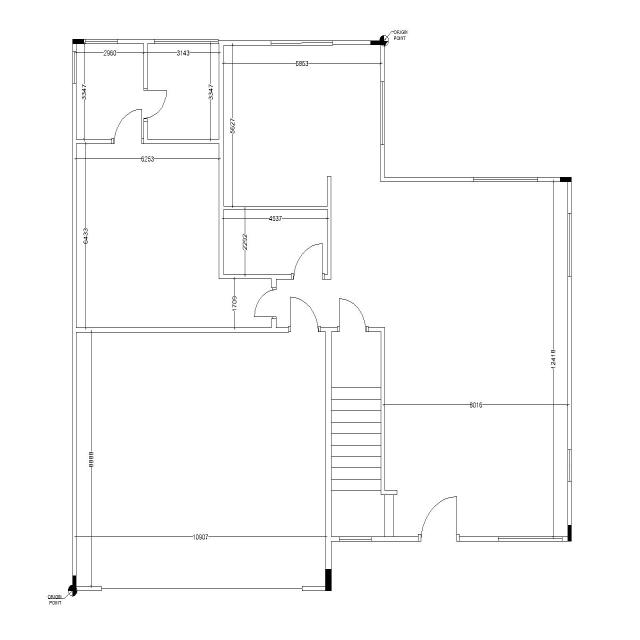Column: (325, 569, 332, 591), (72, 39, 86, 44), (568, 525, 572, 542), (72, 575, 76, 591), (560, 177, 572, 182), (370, 41, 384, 45)
Door: (418, 496, 460, 542), (291, 242, 325, 280), (288, 296, 321, 333), (112, 108, 144, 144), (337, 298, 369, 332), (144, 88, 167, 121), (254, 288, 276, 319)
Staircase: (332, 332, 397, 536)
Window: (498, 536, 562, 542), (271, 40, 333, 46), (473, 177, 538, 182), (154, 39, 218, 44), (568, 213, 572, 277), (380, 81, 384, 145), (339, 536, 372, 542), (85, 39, 118, 44), (568, 449, 572, 482), (72, 52, 76, 84)
